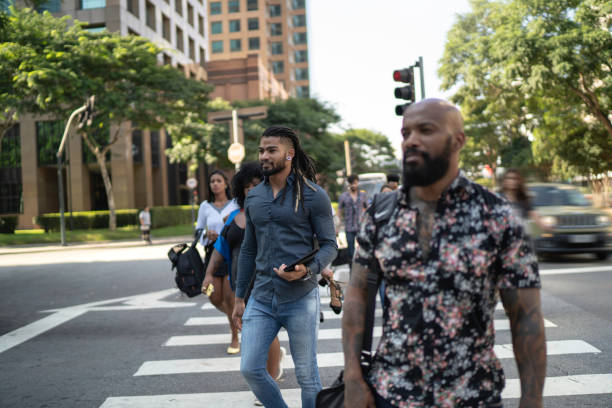yaya: (334, 93, 580, 407), (196, 133, 340, 401), (173, 161, 243, 262)
